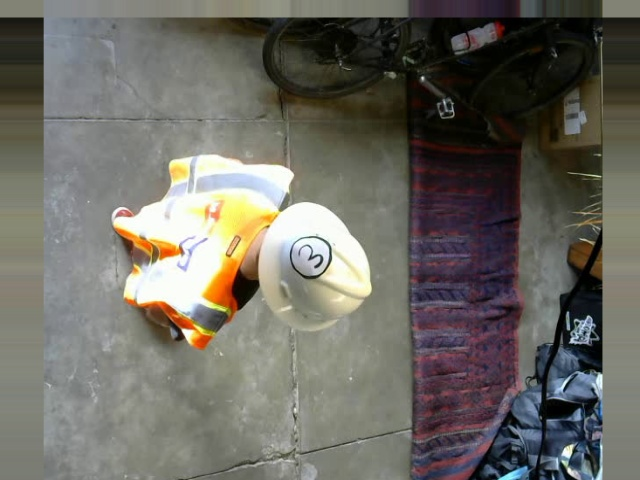three: (289, 236, 330, 278)
